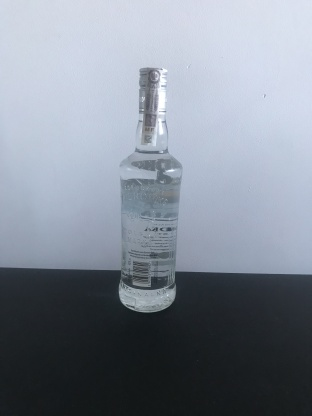nakretka: (136, 63, 169, 117)
